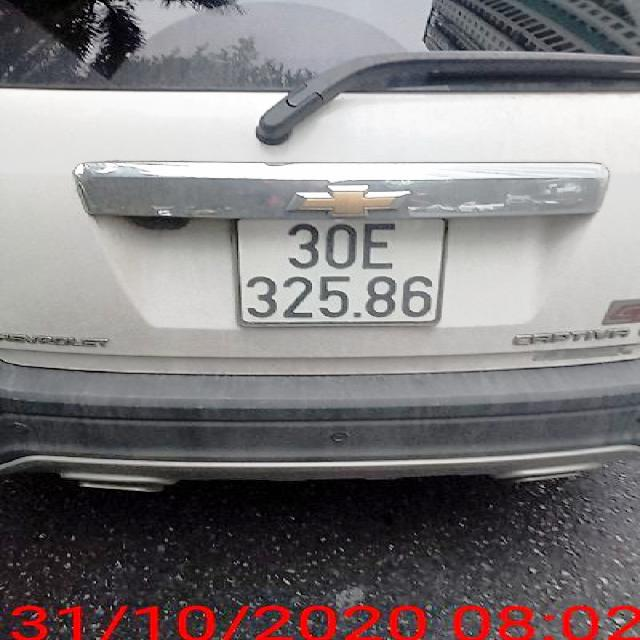license_plate: (234, 217, 455, 328)
